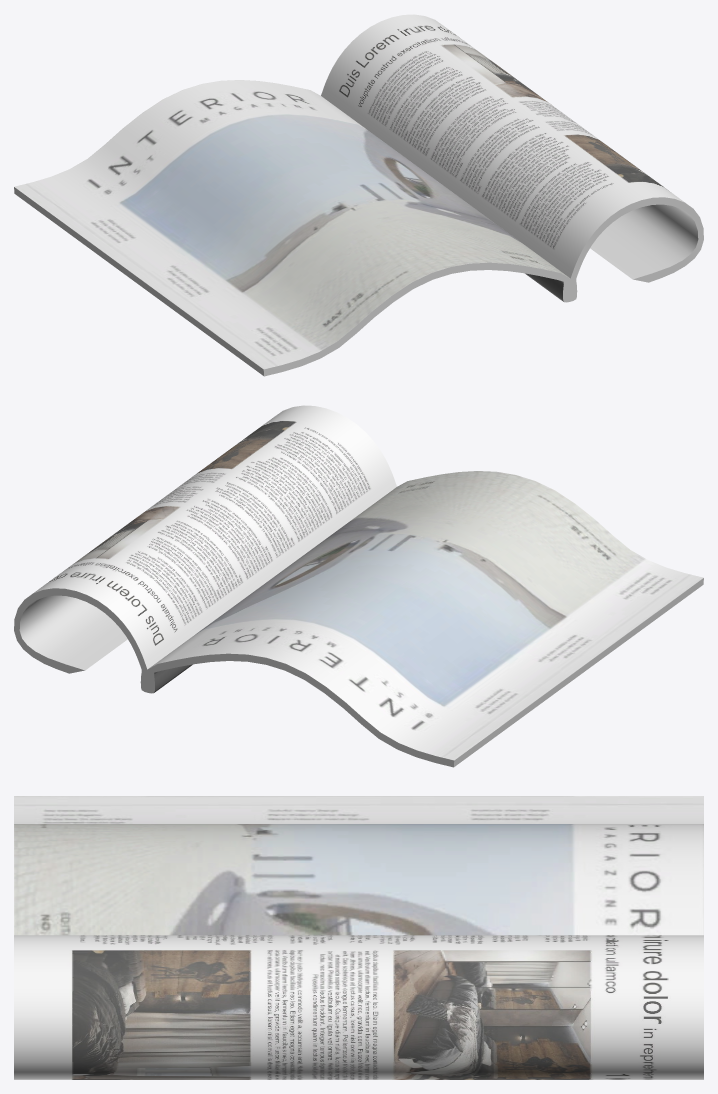
Rendered from open_journal.glb.
The picture shows the model from 3 angles, top to bottom: view 1: azimuth 30°, elevation 25°; view 2: azimuth 150°, elevation 25°; view 3: azimuth 270°, elevation 25°; orthographic projection. The views are drawn at different scales.
Parts seen in each view (by area): view 1: BP_open_journal; view 2: BP_open_journal; view 3: BP_open_journal.
Part boxes in pixels (x1,y1,x2,y2): BP_open_journal: (14,14,703,376); BP_open_journal: (14,405,703,767); BP_open_journal: (14,796,703,1079).
Size of the model in its own units: 0.211 by 0.0386 by 0.2073.
Materials: 5 (3 with a texture image).
